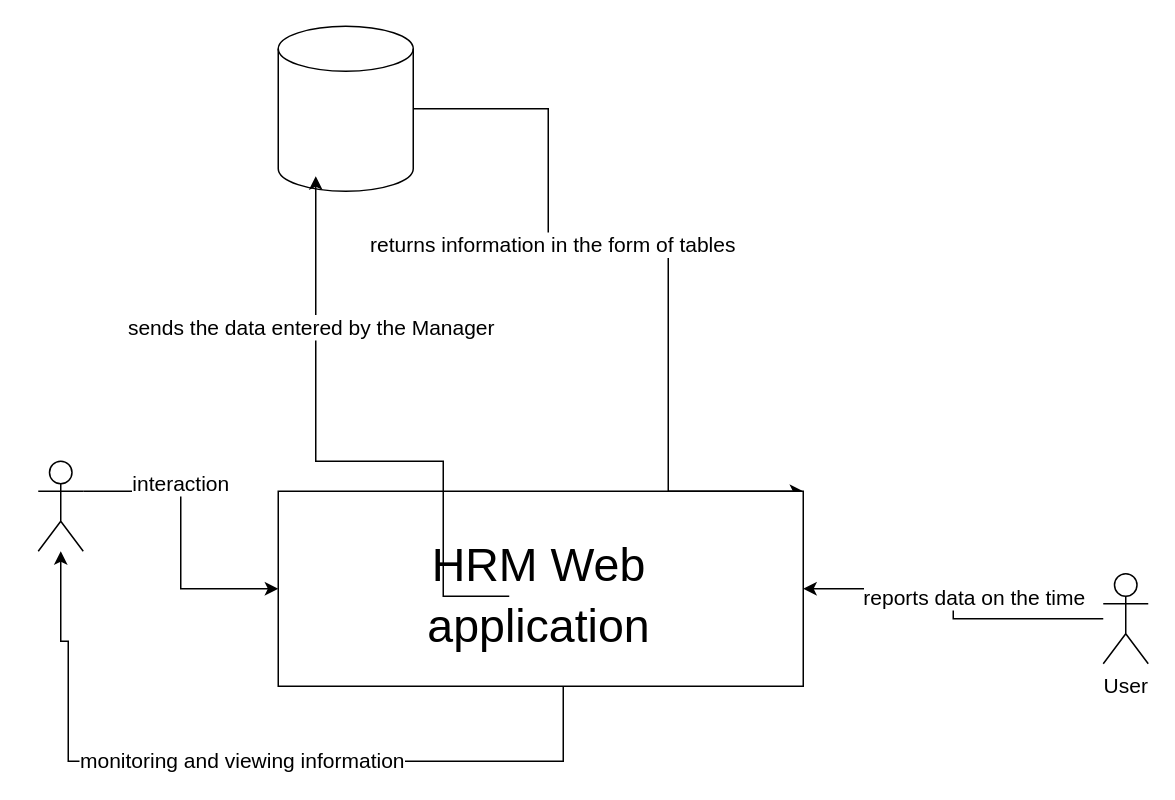
Some shapes in this 1175 by 800 pixel diagram are drawn without their labels. The shapes that lost their labels are listed below. From the top down, each one's centre as x and y in pixels, then its label:
At (345,108): "DataBase".
At (60,505): "Manager".
